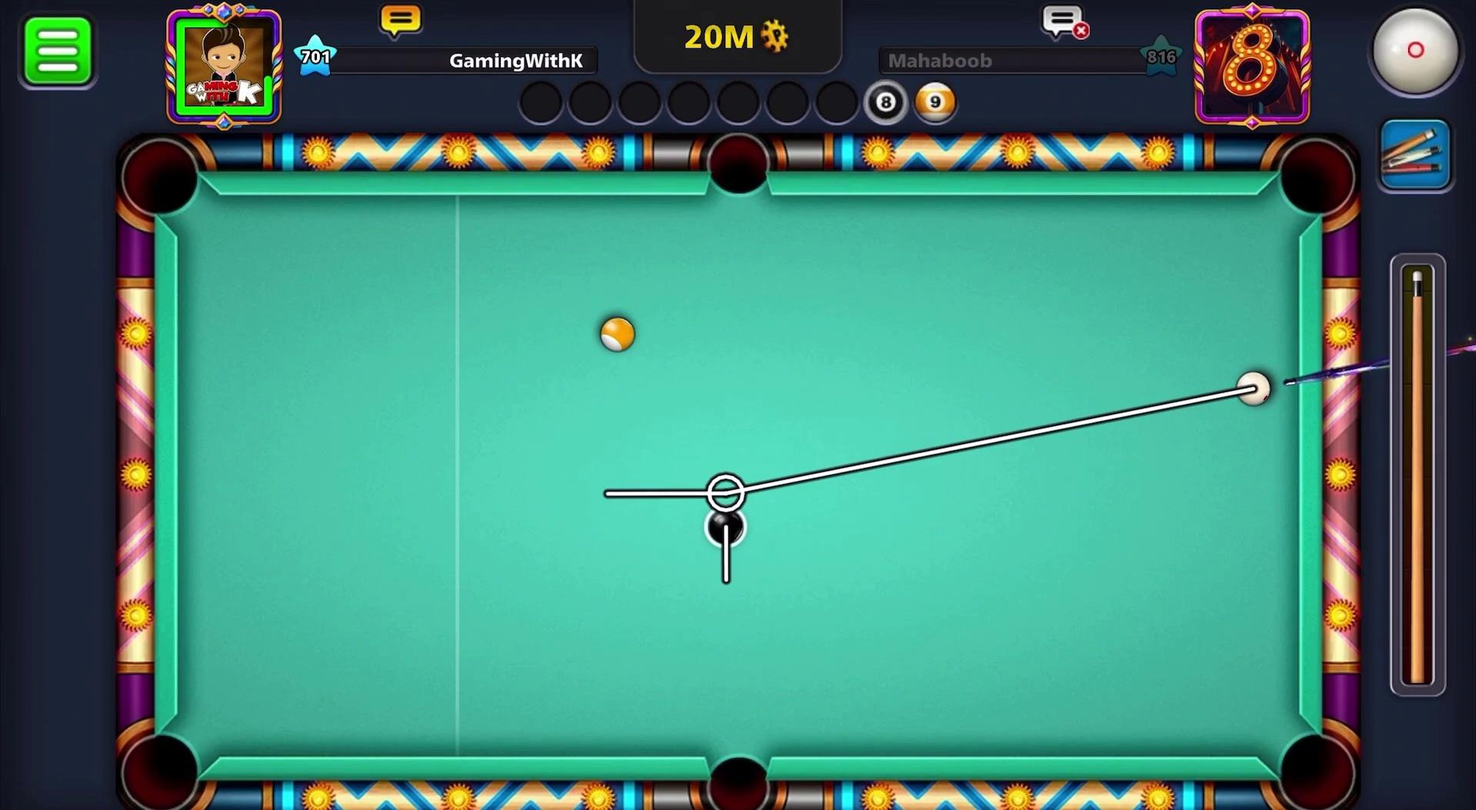Ball: (587, 310, 645, 359), (707, 501, 750, 552)
Force: (1386, 245, 1455, 699)
Guideline: (603, 379, 1254, 587)
Hole: (109, 116, 211, 229), (1269, 124, 1366, 228), (1265, 720, 1365, 810), (111, 726, 207, 810), (699, 130, 797, 210), (691, 738, 787, 810)
Play_Area: (179, 193, 1298, 759)
Spin: (1346, 0, 1476, 109)
White: (1228, 362, 1280, 416)
